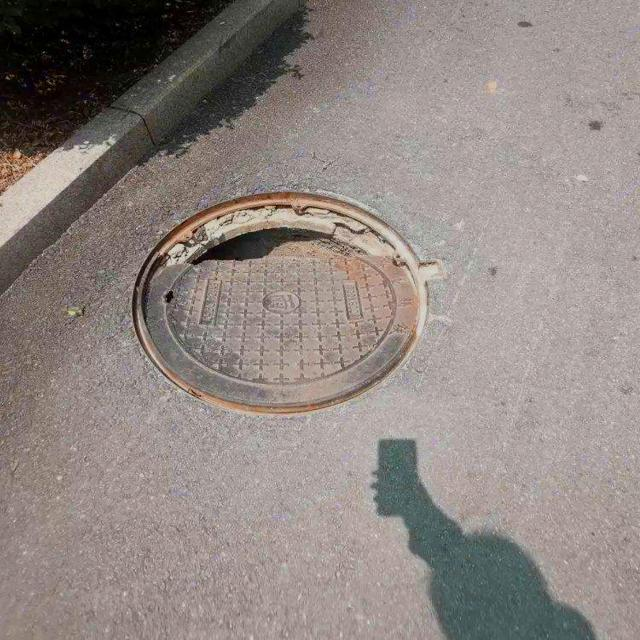broke: (136, 191, 445, 413)
